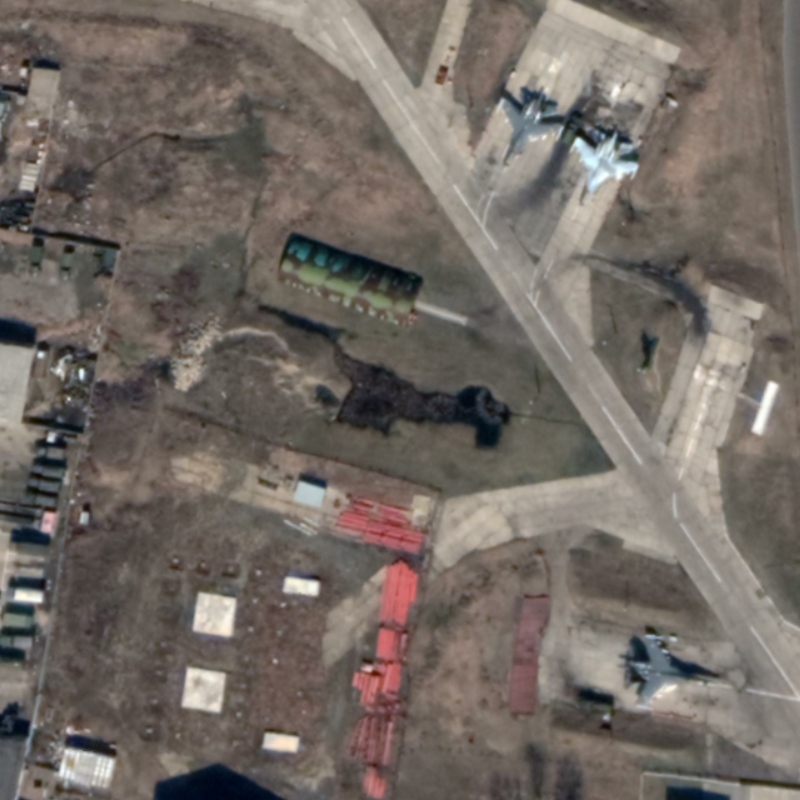A1: (620, 631, 718, 714), (490, 83, 566, 171), (567, 127, 639, 211)
